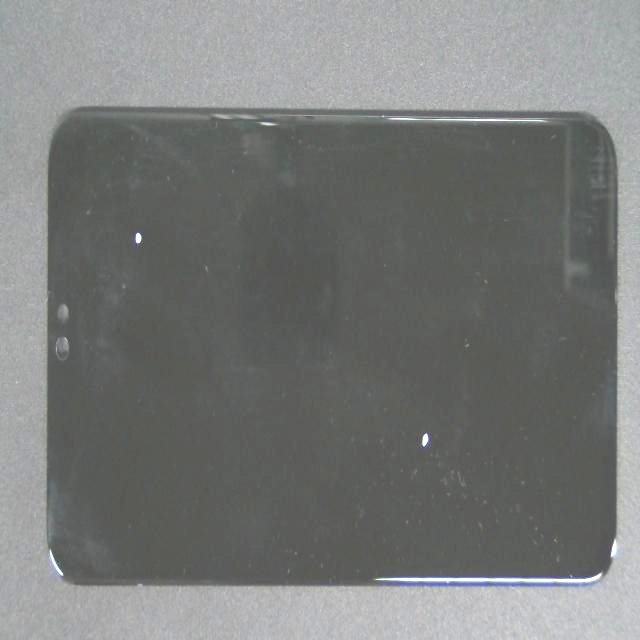stain: (221, 193, 634, 617), (77, 79, 194, 320)
